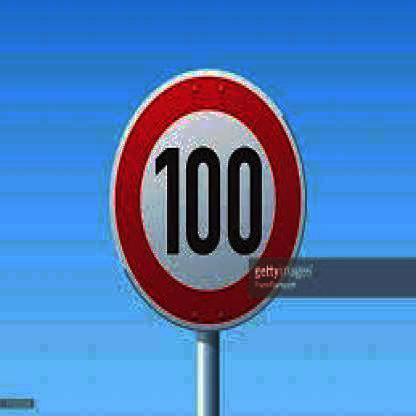Speed Limit -100-: (108, 63, 308, 329)
